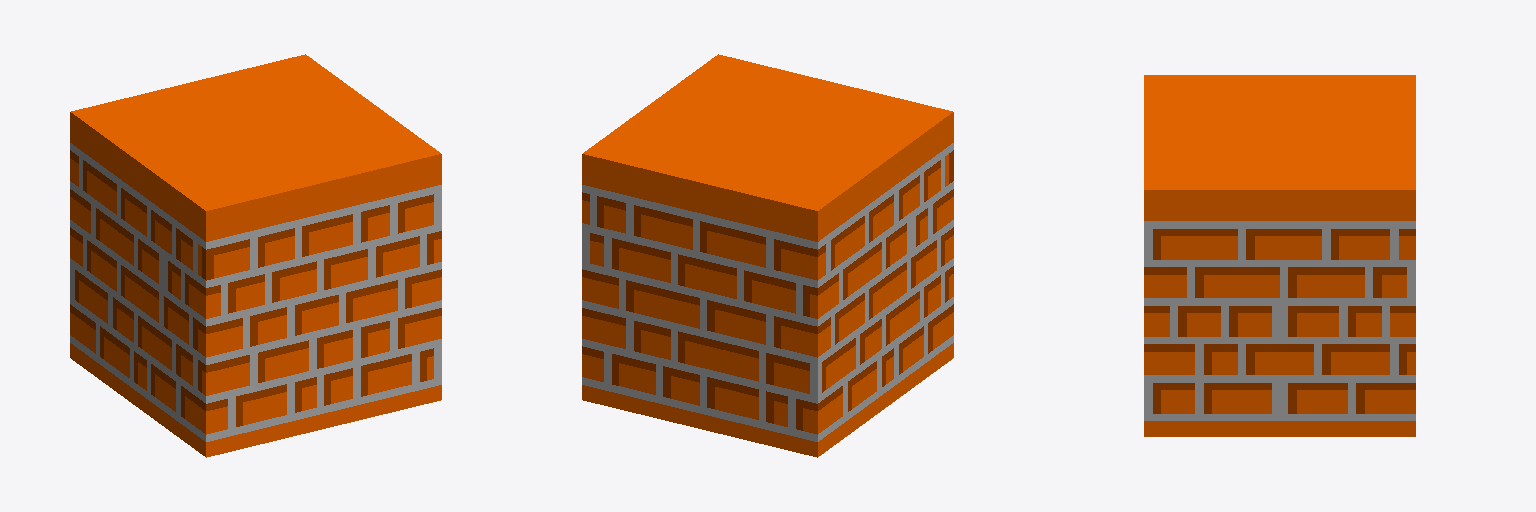
The picture shows the model from 3 angles: view 1: azimuth 30°, elevation 25°; view 2: azimuth 150°, elevation 25°; view 3: azimuth 270°, elevation 25°; orthographic projection.
Parts seen in each view (by area): view 1: object 1; view 2: object 1; view 3: object 1.
Part boxes in pixels (x1,y1,x2,y2): object 1: (70,54,441,457); object 1: (582,54,953,457); object 1: (1144,75,1415,436).
Size of the model in its own units: 3.2 by 3.2 by 3.2.
Materials: 1 (1 with a texture image).